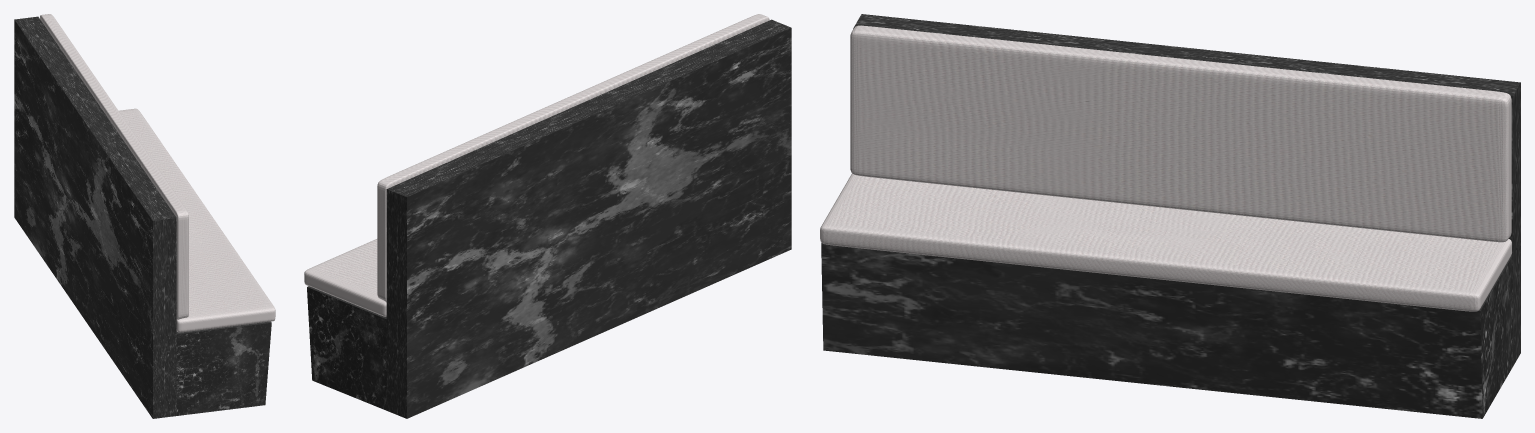
File: seat-marble.gltf
3 views of the same model, side by side, from view 1: azimuth 30°, elevation 25°; view 2: azimuth 150°, elevation 25°; view 3: azimuth 270°, elevation 25° (orthographic). The views are drawn at different scales.
Parts seen in each view (by area): view 1: Seating, Pillow (Seat), Pillow (Back); view 2: Seating, Pillow (Back), Pillow (Seat); view 3: Pillow (Back), Seating, Pillow (Seat).
Boxes of the visible parts, <box> form: Seating: <box>14,16,271,418</box>; Pillow (Seat): <box>119,108,275,332</box>; Pillow (Back): <box>40,14,188,319</box>; Seating: <box>307,19,791,418</box>; Pillow (Back): <box>377,14,769,302</box>; Pillow (Seat): <box>304,239,386,316</box>; Pillow (Back): <box>850,25,1511,242</box>; Seating: <box>821,14,1520,418</box>; Pillow (Seat): <box>820,173,1511,311</box>.
Bounding box in the file's own units: 0.978 × 0.8952 × 2.06.
Materials: 2 (2 with a texture image).
